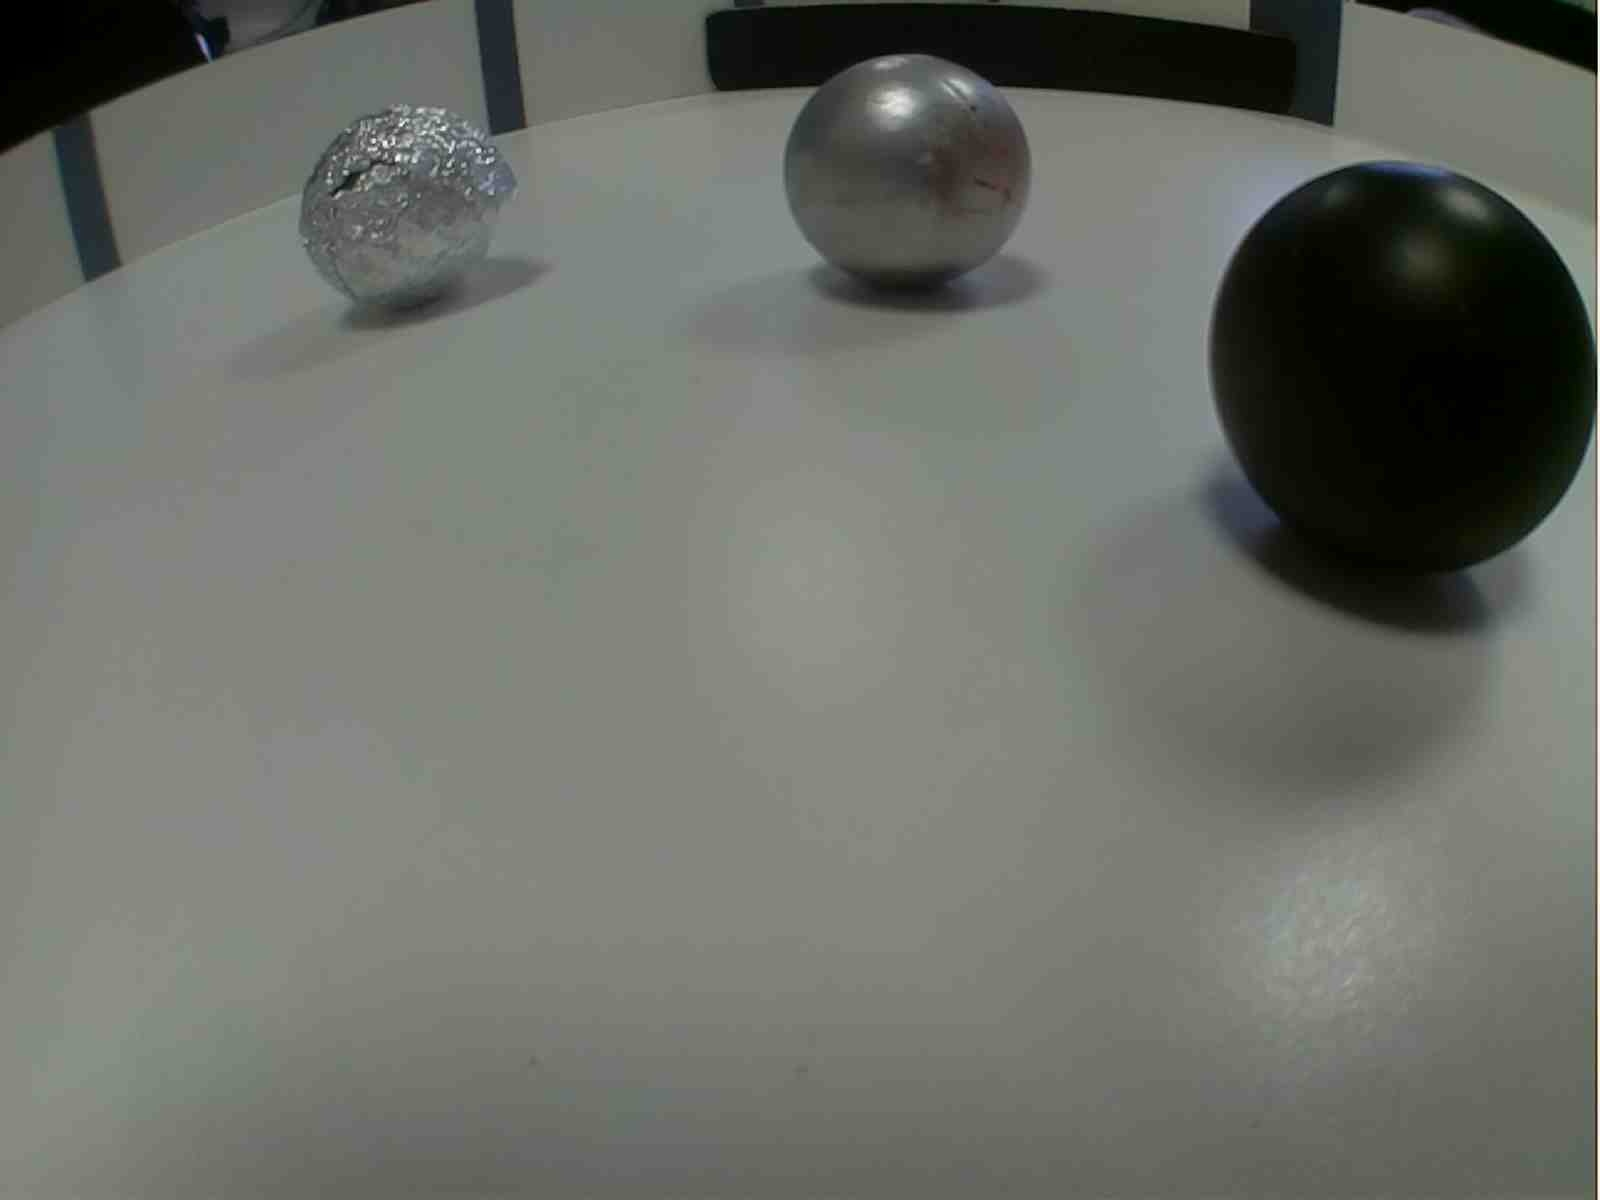bianca: (779, 45, 1038, 305)
nera: (1209, 151, 1600, 599), (294, 105, 513, 323)
